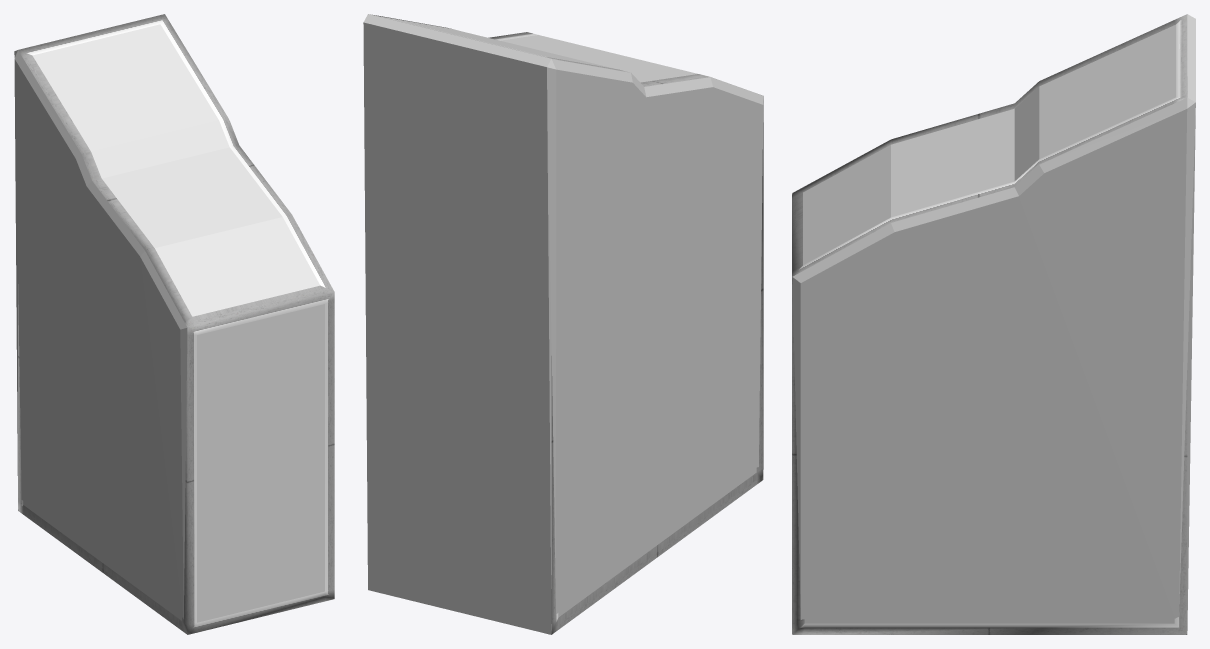
File: s_gm_crawl_03.dae
3 renders of one model, left to right at view 1: azimuth 30°, elevation 25°; view 2: azimuth 150°, elevation 25°; view 3: azimuth 270°, elevation 25°, orthographic. The views are drawn at different scales.
Visible parts, largest first — view 1: crawl_03_a25, Colmesh_crawl_03-1, crawl_03_a200; view 2: Colmesh_crawl_03-1, crawl_03_a200, crawl_03_a25; view 3: Colmesh_crawl_03-1, crawl_03_a25, crawl_03_a200.
Part boxes in pixels (x1,y1,x2,y2): crawl_03_a25: (32, 24, 324, 622); Colmesh_crawl_03-1: (14, 50, 238, 620); crawl_03_a200: (18, 14, 334, 634); Colmesh_crawl_03-1: (363, 14, 763, 634); crawl_03_a200: (368, 14, 763, 634); crawl_03_a25: (389, 18, 697, 82); Colmesh_crawl_03-1: (792, 14, 1195, 630); crawl_03_a25: (803, 24, 1175, 264); crawl_03_a200: (792, 14, 1187, 634).
Bounding box in the file's own units: 2.1 × 4.09 × 6.
